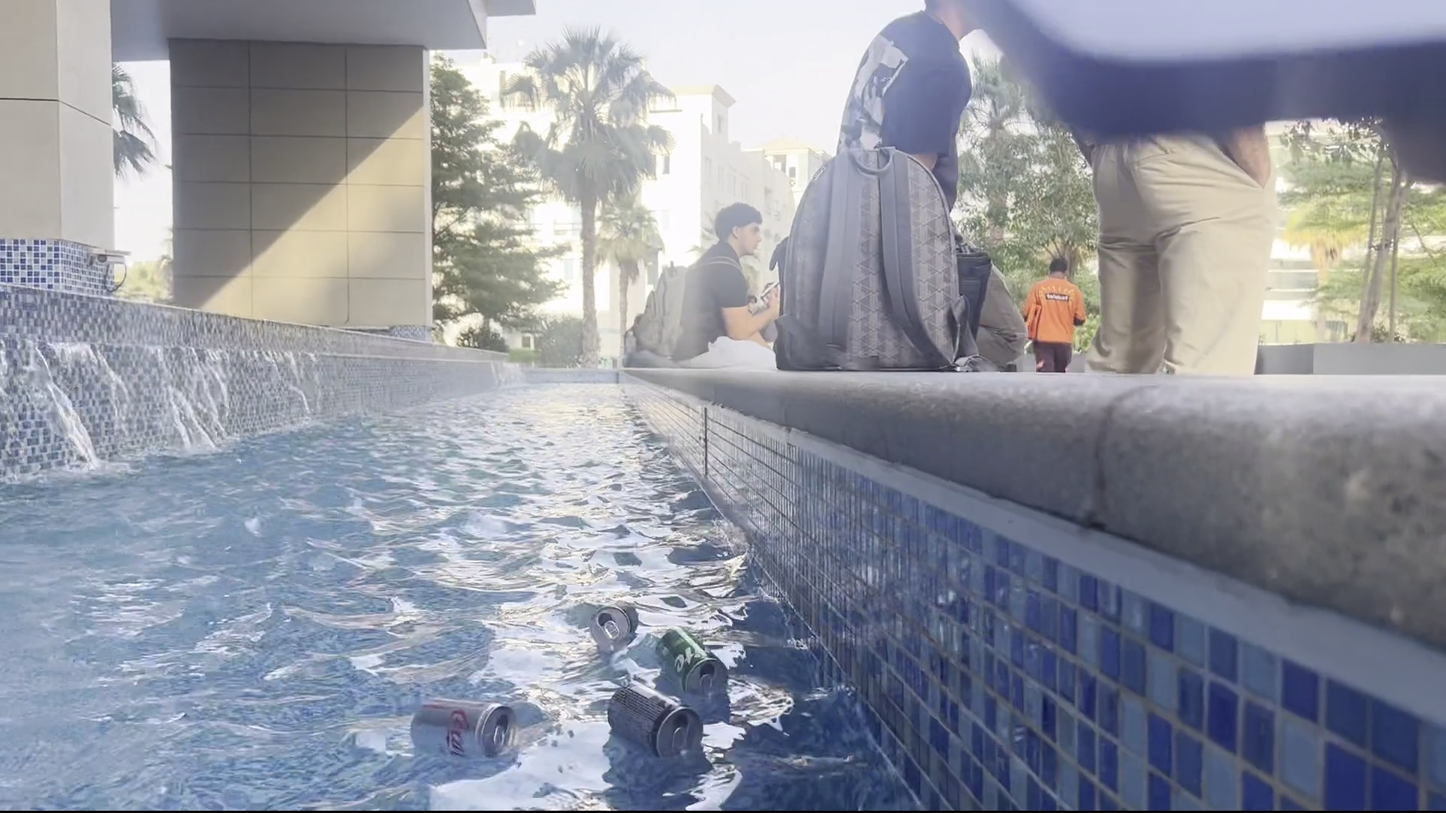debris: (601, 674, 706, 766), (407, 688, 520, 770), (648, 626, 735, 706), (586, 589, 642, 651)
